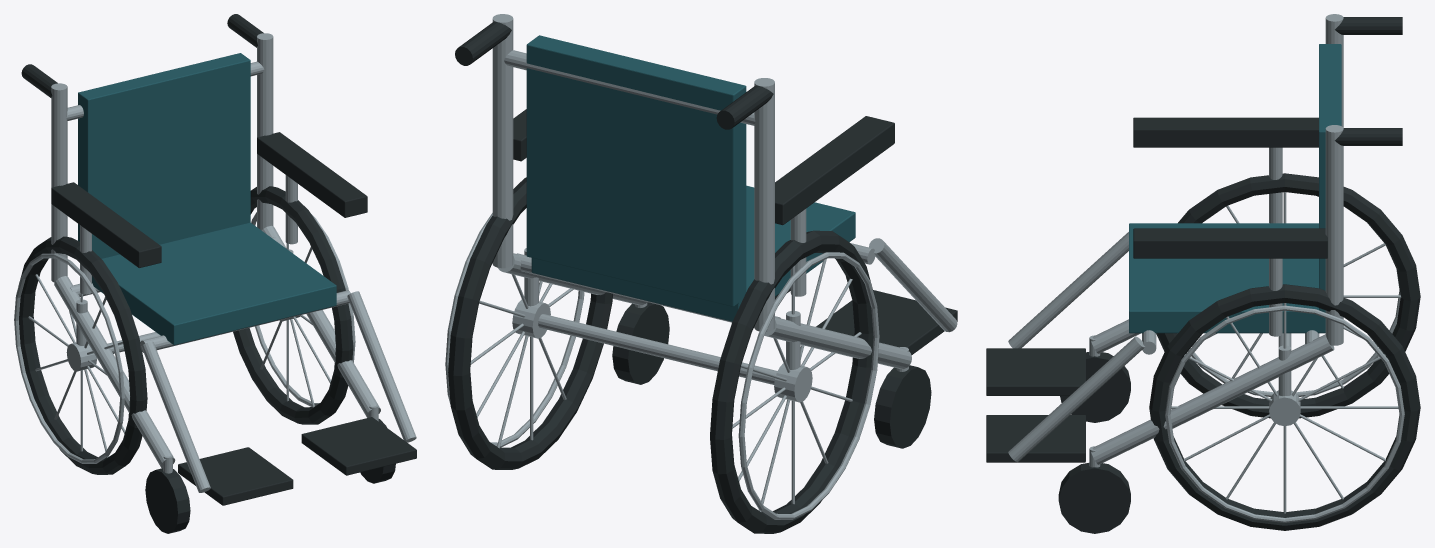
File: wheelchair.glb
3 renders of one model, left to right at view 1: azimuth 30°, elevation 25°; view 2: azimuth 150°, elevation 25°; view 3: azimuth 270°, elevation 25°, orthographic. The views are drawn at different scales.
Parts seen in each view (by area): view 1: Backrest, Seat, Rear_Wheel.001, Rear_Wheel, Footplate.001, Armrest, Armrest.001, Footplate, Frame, Push_Rim.001, Back_Frame, Back_Frame.001 (+12 smaller); view 2: Backrest, Rear_Wheel.001, Rear_Wheel, Seat, Armrest.001, Back_Frame, Back_Frame.001, Push_Rim.001, Front_Caster, Footplate, Rear_Axle, Front_Caster.001 (+11 smaller); view 3: Rear_Wheel, Seat, Rear_Wheel.001, Armrest, Armrest.001, Footplate, Frame.001, Front_Caster.001, Push_Rim, Footplate.001, Back_Frame, Backrest (+11 smaller).
Part boxes in pixels (x1,y1,x2,y2): Backrest: (78,53,250,258); Seat: (92,222,336,345); Rear_Wheel.001: (19,236,147,474); Rear_Wheel: (233,186,353,424); Footplate.001: (301,417,416,475); Armrest: (257,132,367,217); Armrest.001: (51,182,161,267); Footplate: (178,447,293,505); Frame: (54,276,175,468); Push_Rim.001: (14,253,124,463); Back_Frame: (257,33,273,230); Back_Frame.001: (51,83,67,282); Backrest: (526,35,746,306); Rear_Wheel.001: (710,230,874,533); Rear_Wheel: (448,177,612,469); Seat: (531,185,855,321); Armrest.001: (775,116,894,225); Back_Frame: (492,14,513,268); Back_Frame.001: (754,78,774,331); Push_Rim.001: (738,252,879,519); Front_Caster: (874,365,931,448); Footplate: (816,290,957,355); Rear_Axle: (538,314,777,384); Front_Caster.001: (612,302,669,384); Rear_Wheel: (1149,284,1420,530); Seat: (1129,223,1325,333); Rear_Wheel.001: (1156,173,1420,418); Armrest: (1133,228,1327,258); Armrest.001: (1133,117,1318,147); Footplate: (986,348,1085,395); Frame.001: (1091,334,1334,464); Front_Caster.001: (1058,463,1130,533); Push_Rim: (1165,305,1404,522); Footplate.001: (986,415,1085,462); Back_Frame: (1325,125,1343,345); Backrest: (1319,44,1341,312).
Bounding box in the file's own units: 0.662 × 0.98 × 0.96.
